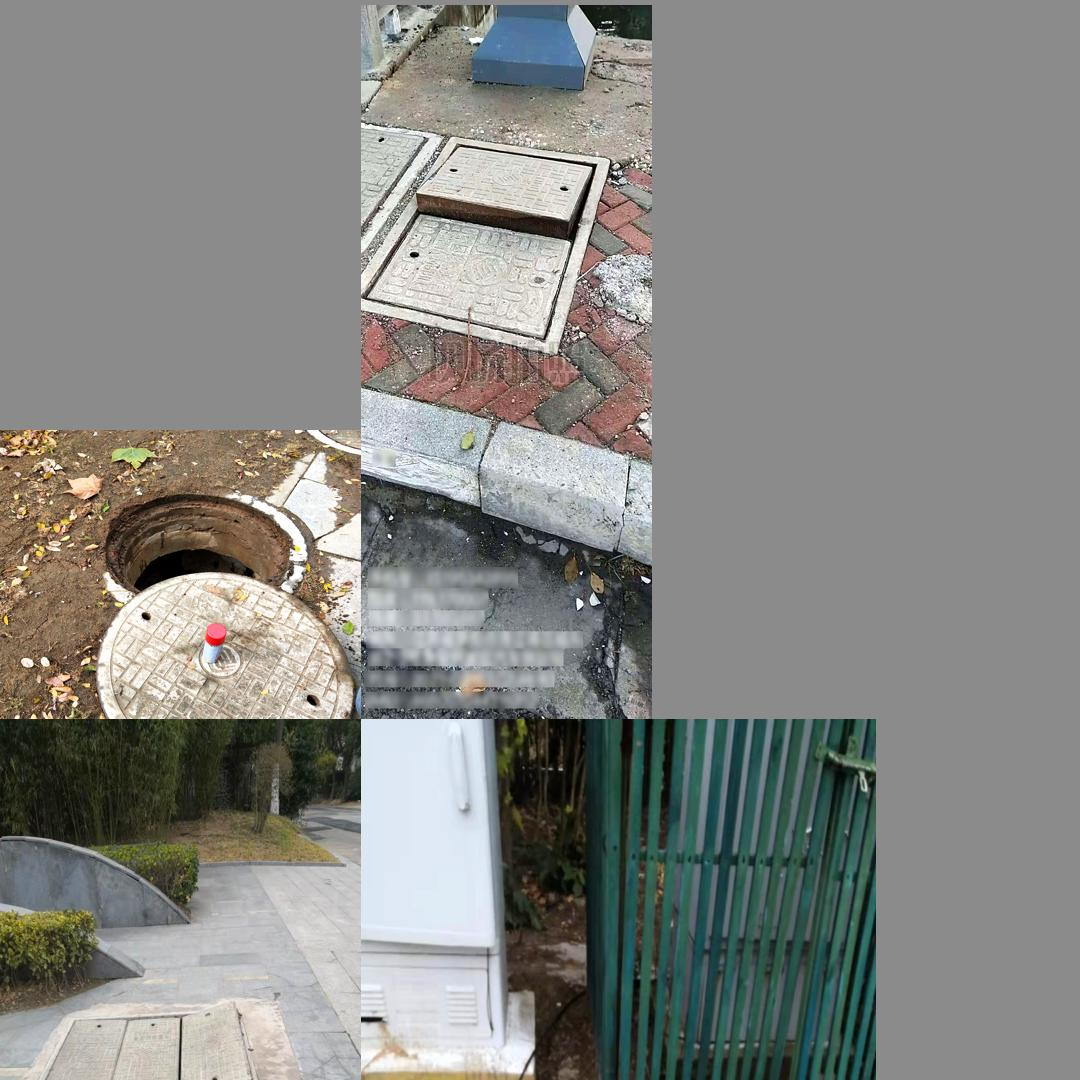uncovered: (96, 491, 352, 719), (400, 127, 593, 346), (25, 1003, 262, 1080)
